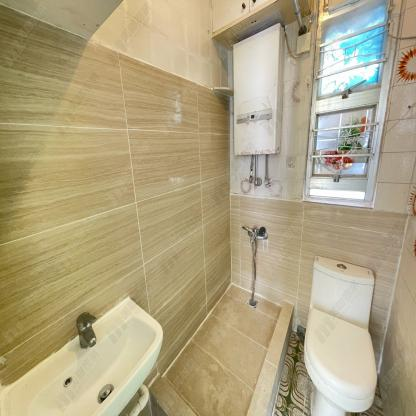Toilet: (300, 254, 378, 416)
Toilet Sink: (1, 294, 165, 416)
Water Cubicle: (149, 283, 294, 416)
Water Heater: (232, 22, 285, 157)
